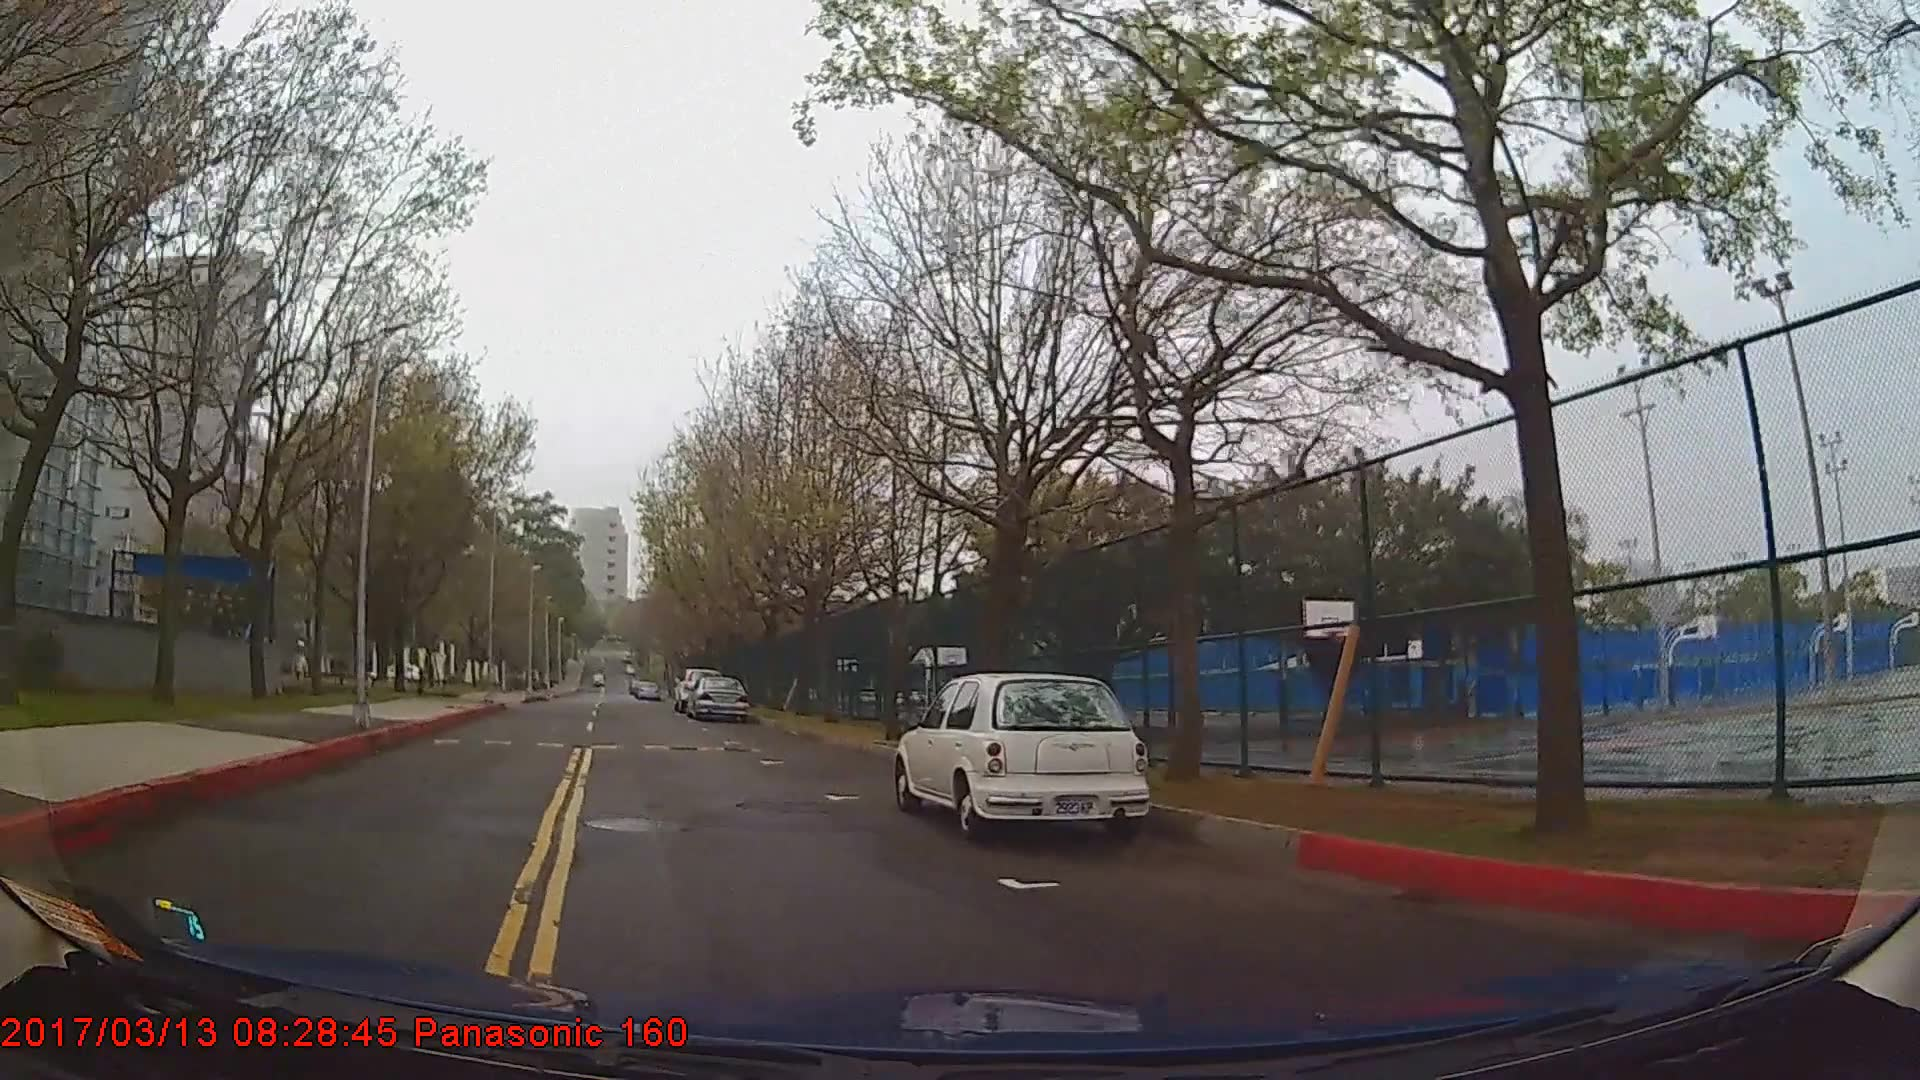vehicle: (890, 670, 1150, 837), (686, 674, 749, 716)
